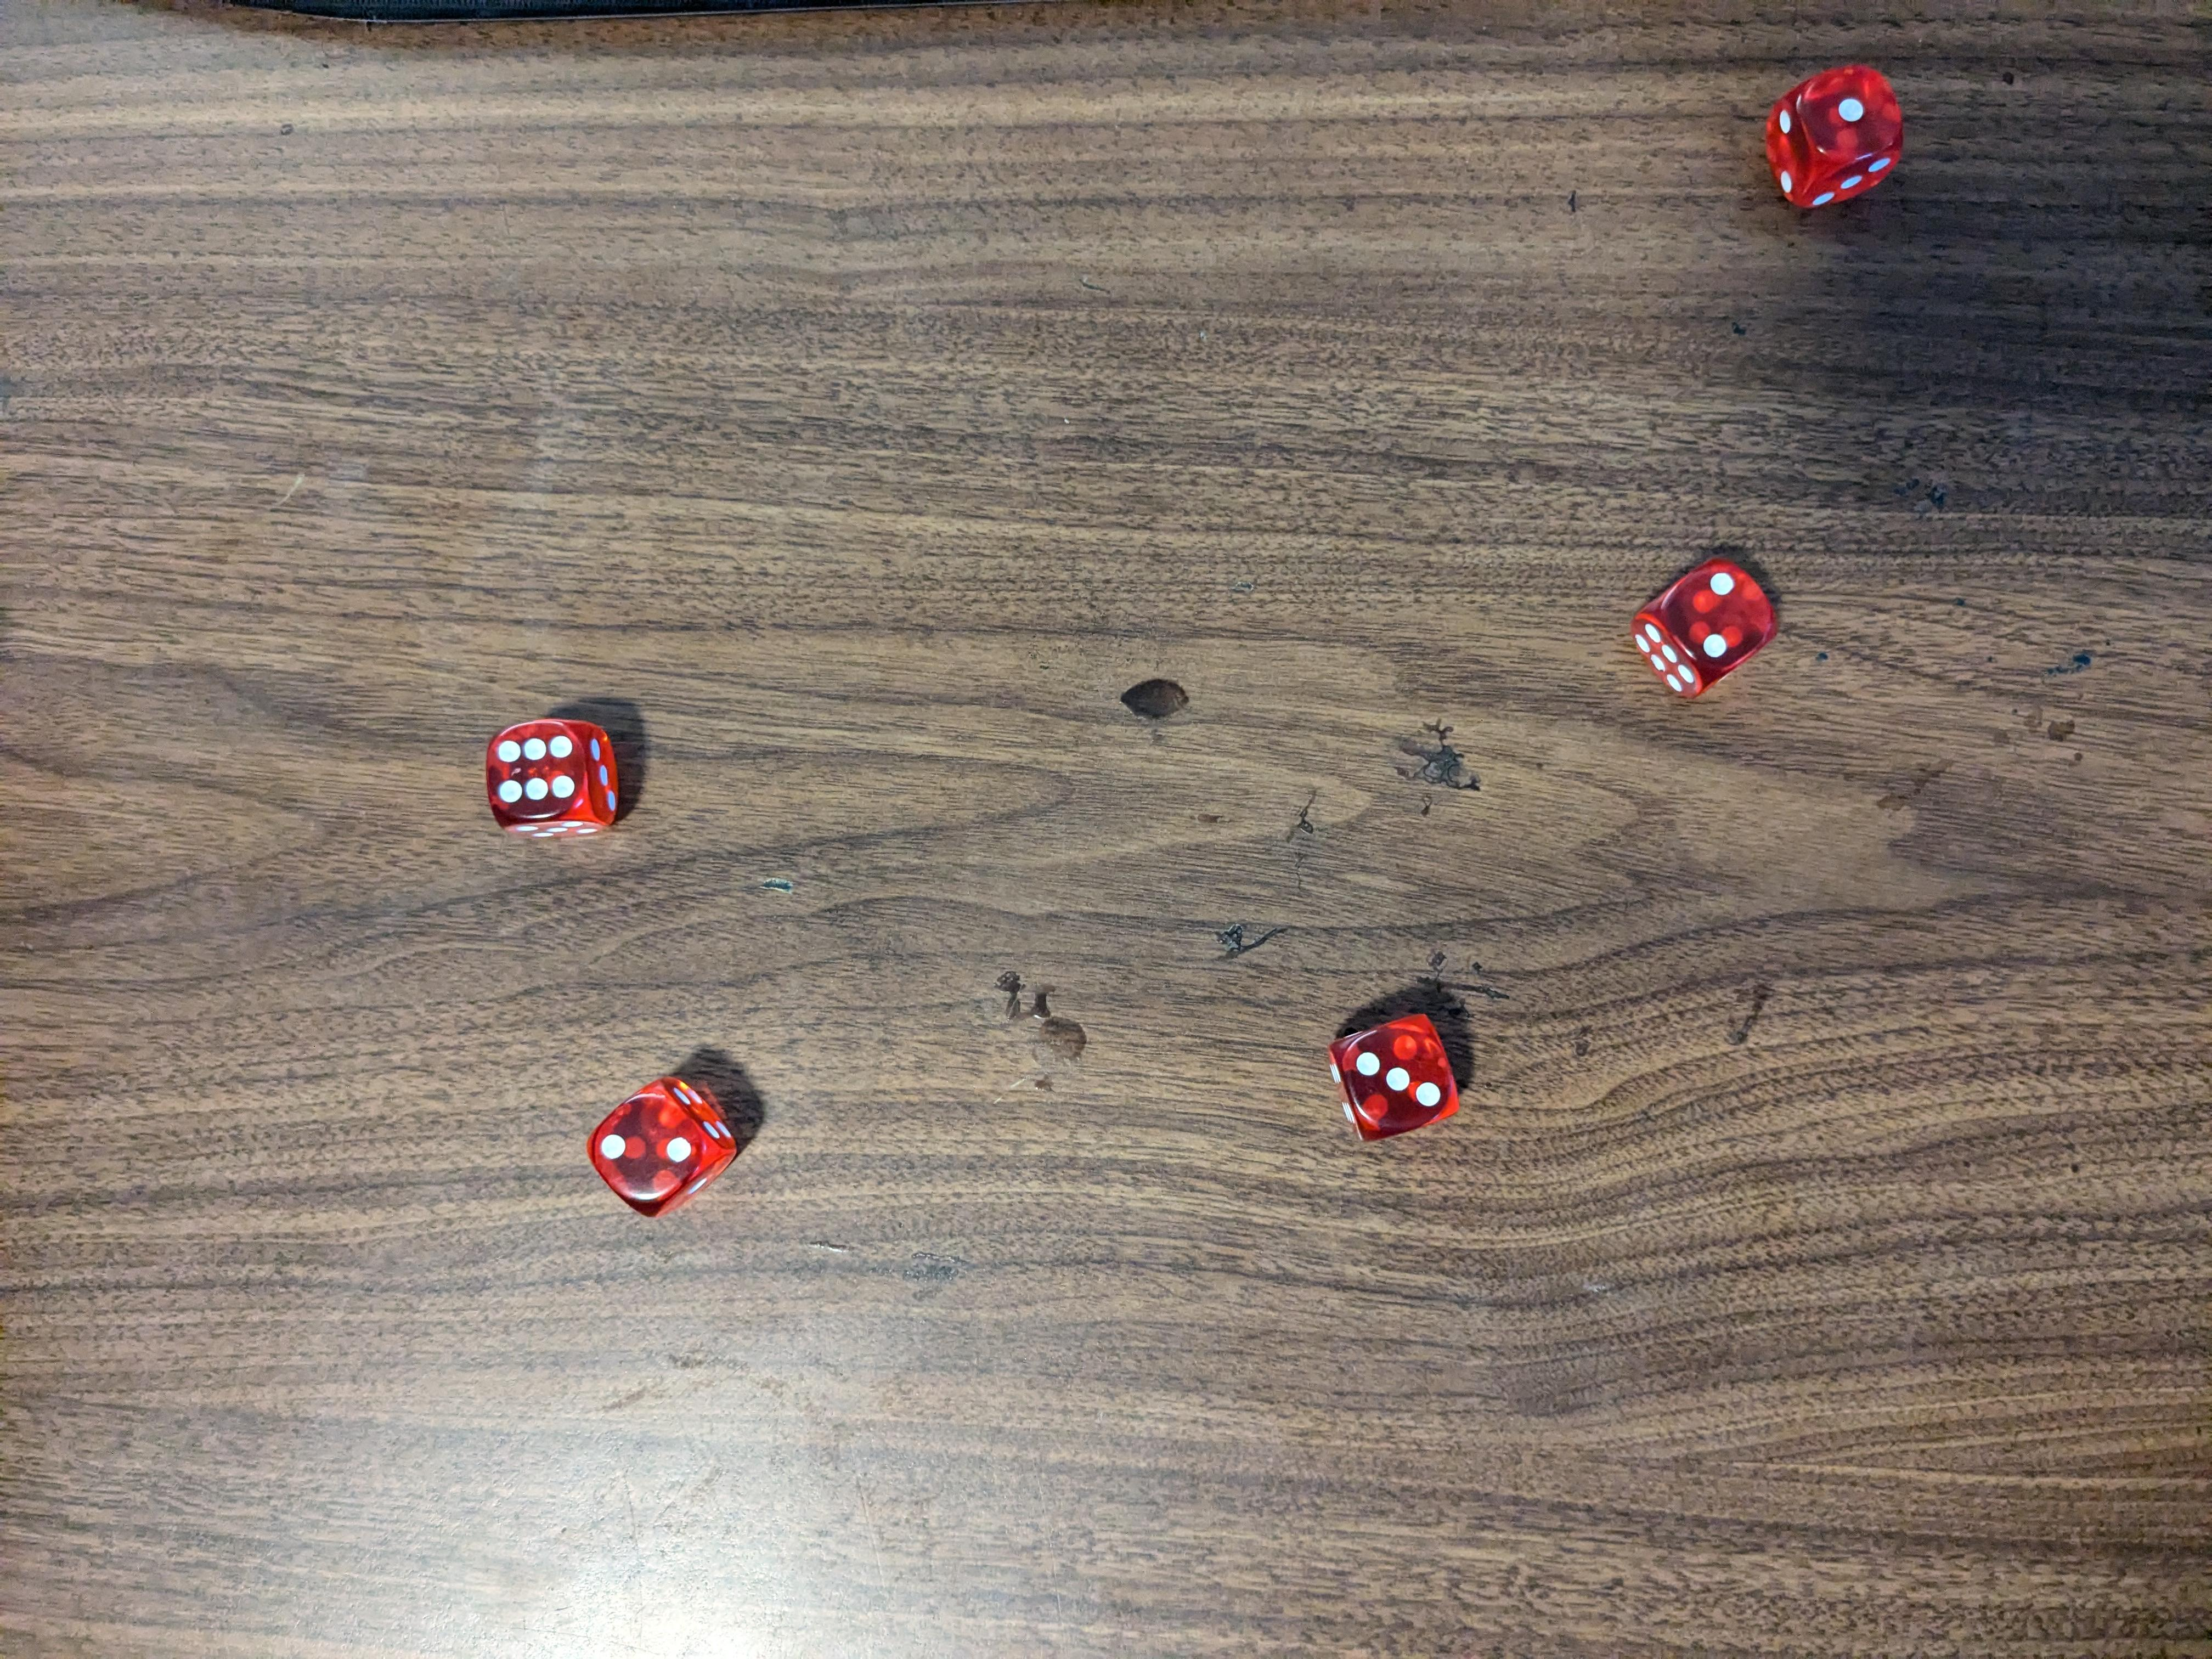one: (1766, 66, 1909, 209)
six: (477, 716, 624, 835)
three: (1315, 1000, 1467, 1143)
two: (1632, 559, 1785, 706), (582, 1079, 742, 1218)
